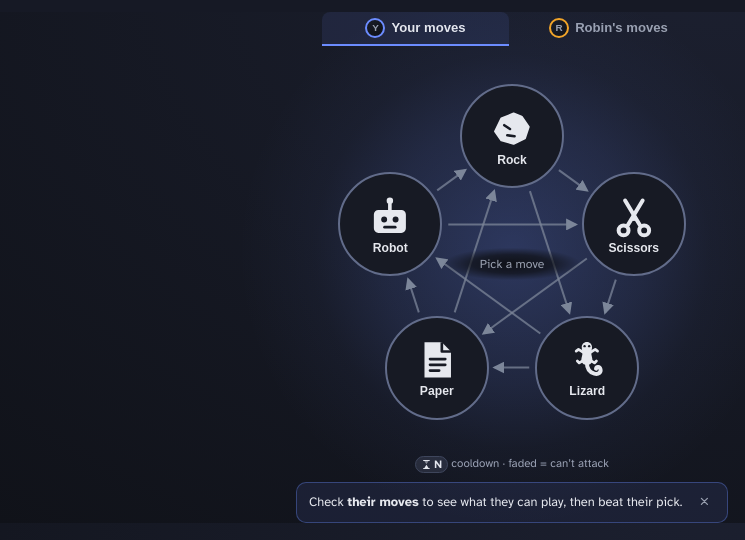
Test: <MovePicker> their cooldowns, on their own board (JQ 2.3, rehomed by JQ-324) › marks the node and names the wait when you tap it
The image size is (745, 540).
Click the tab "R Robin's moves": (608, 29) top-left (515, 12), bottom-right (702, 46)
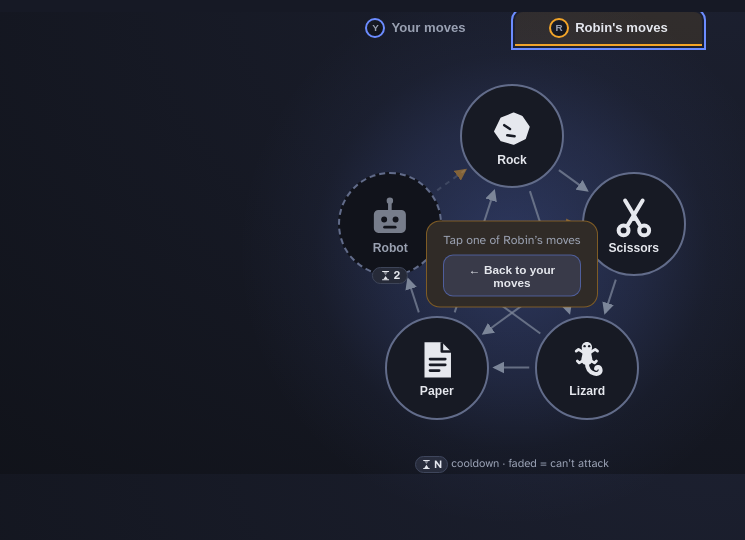
Click the button "Robot 2": (390, 224) top-left (338, 172), bottom-right (442, 276)
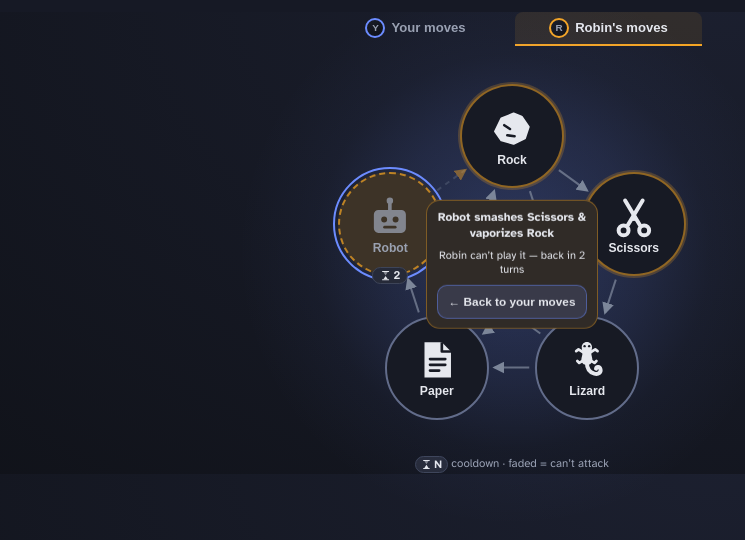
Expected: the text "Robin can’t play it — back in 2 turns" is shown, top-left (437, 249), bottom-right (587, 277)
